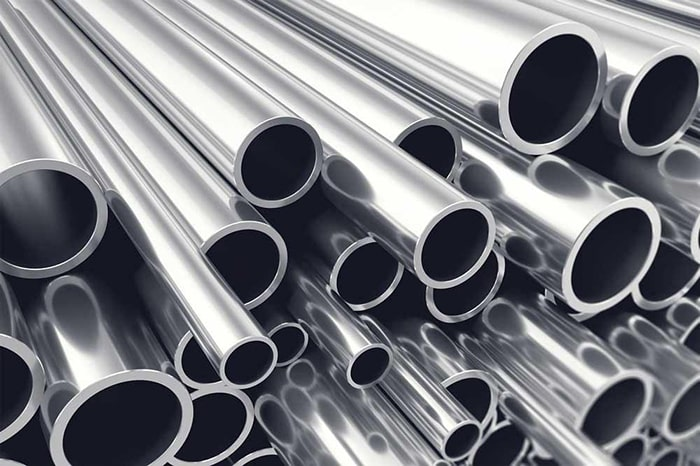steel_pipe: (447, 0, 631, 164), (495, 176, 686, 318), (367, 181, 514, 293), (47, 365, 199, 465), (0, 159, 110, 280), (617, 45, 700, 161), (231, 113, 325, 213), (198, 220, 291, 315), (179, 320, 292, 392), (327, 234, 405, 312), (314, 330, 406, 391), (389, 117, 463, 188), (439, 420, 488, 460), (268, 320, 310, 366), (650, 203, 657, 205)
